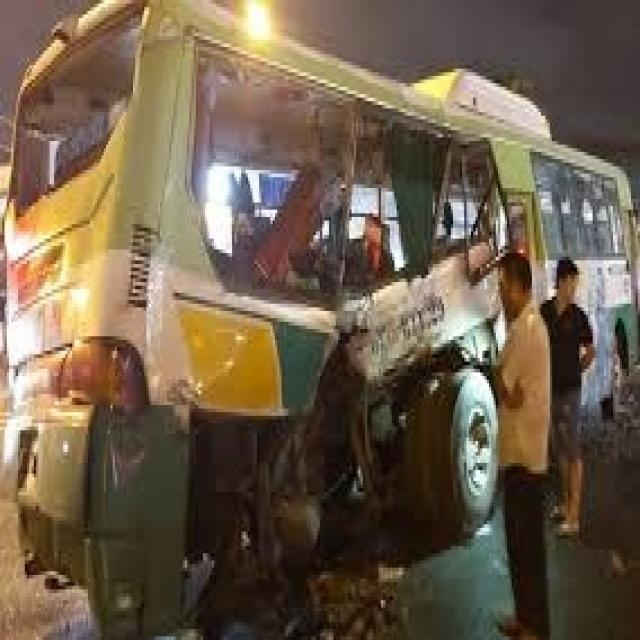accident: (0, 0, 575, 628)
